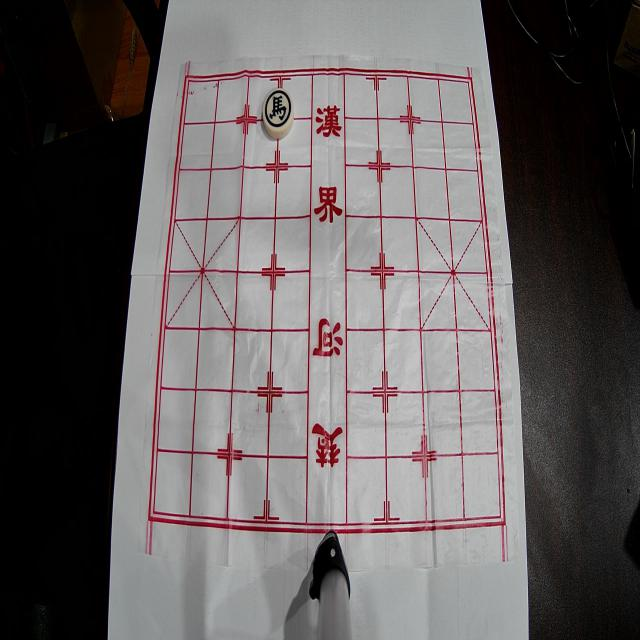black-horse: (262, 89, 294, 139)
